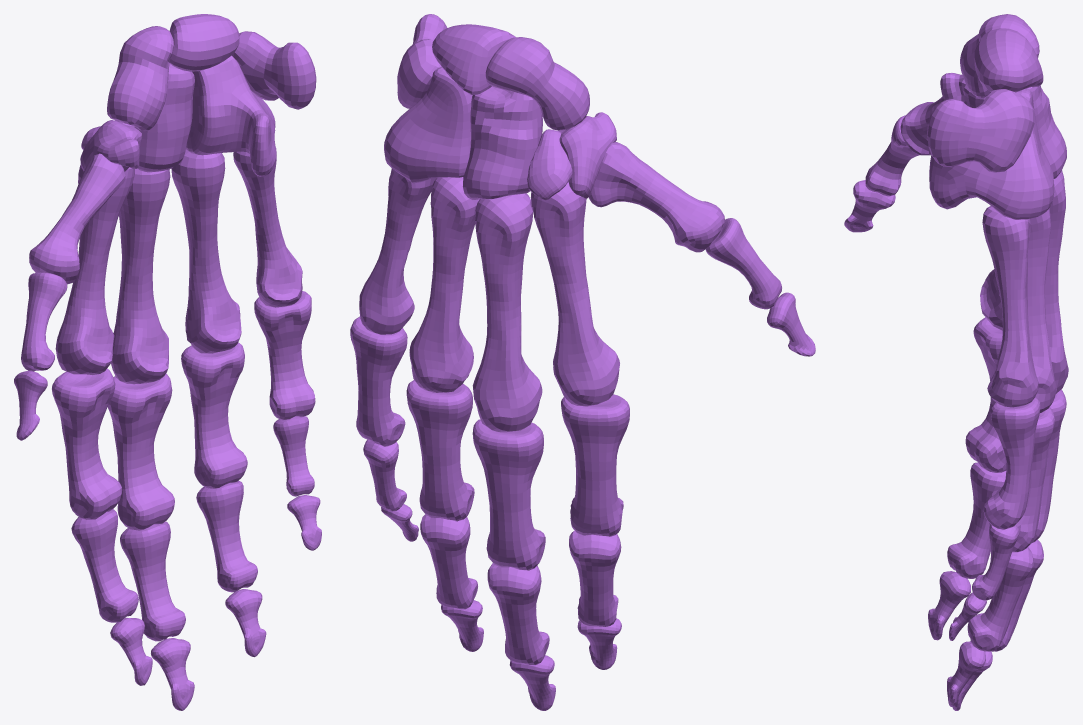
The model's file is SkullHand001.glb.
3 renders of one model, left to right at view 1: azimuth 30°, elevation 25°; view 2: azimuth 150°, elevation 25°; view 3: azimuth 270°, elevation 25°, orthographic. The views are drawn at different scales.
Parts seen in each view (by area): view 1: Wrist LP; view 2: Wrist LP; view 3: Wrist LP.
Boxes of the visible parts, box(x1,y1,x2,y2) form: Wrist LP: box(14, 14, 321, 710); Wrist LP: box(350, 14, 815, 710); Wrist LP: box(844, 14, 1068, 710).
Size of the model in its own units: 10.66 by 18.52 by 5.44.
